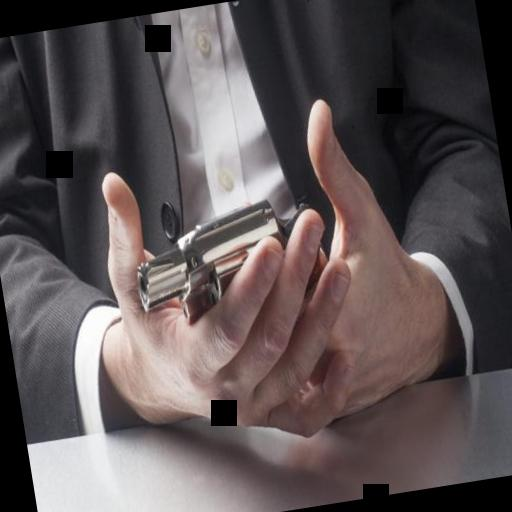Handgun: (118, 186, 338, 342)
